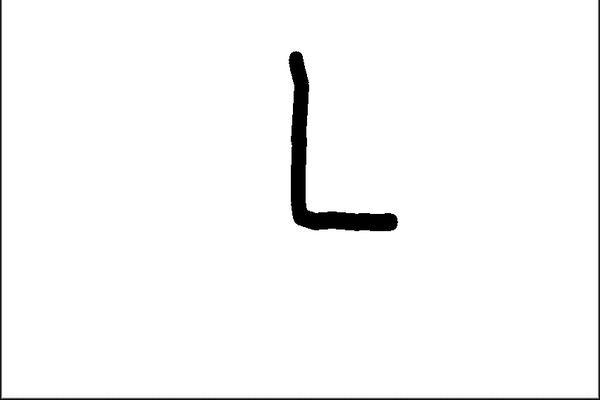L: (280, 46, 402, 233)
